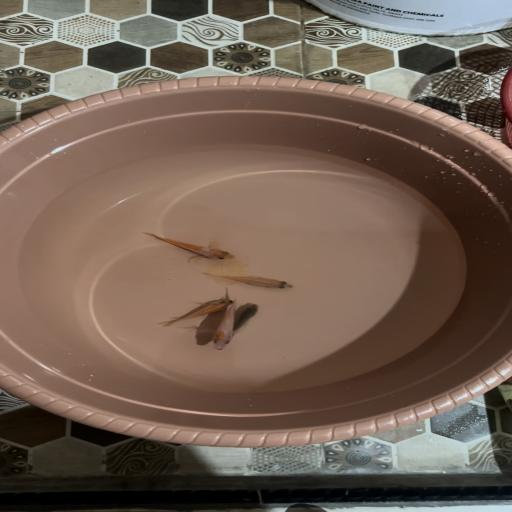nila: (143, 231, 240, 261), (160, 296, 232, 329), (199, 270, 300, 290), (202, 306, 238, 355), (230, 301, 262, 334)
